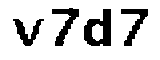7: (119, 5, 151, 50), (49, 6, 79, 52)
d: (82, 6, 114, 51)
v: (9, 16, 43, 48)
